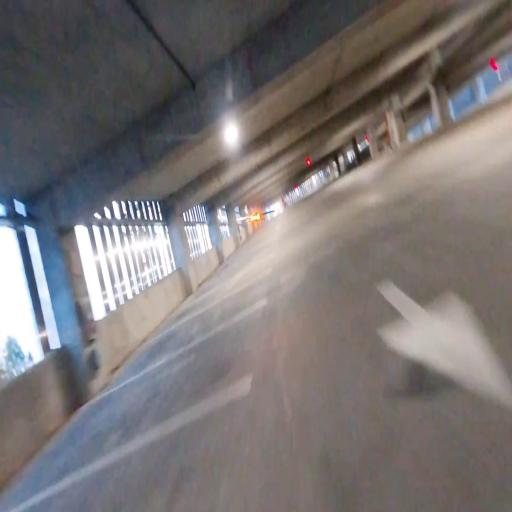uav: (235, 205, 279, 229)
